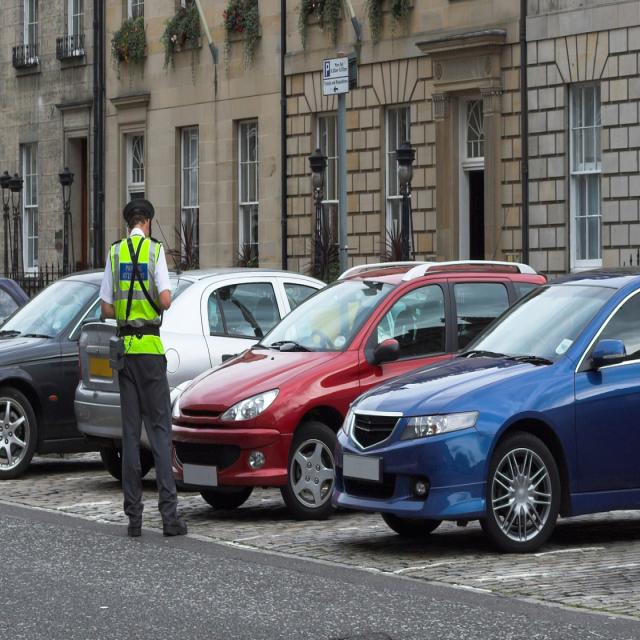car: (331, 275, 638, 520), (175, 262, 340, 509)
